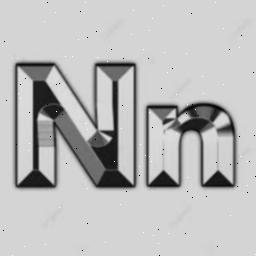n: (11, 56, 139, 194), (143, 100, 237, 190)
